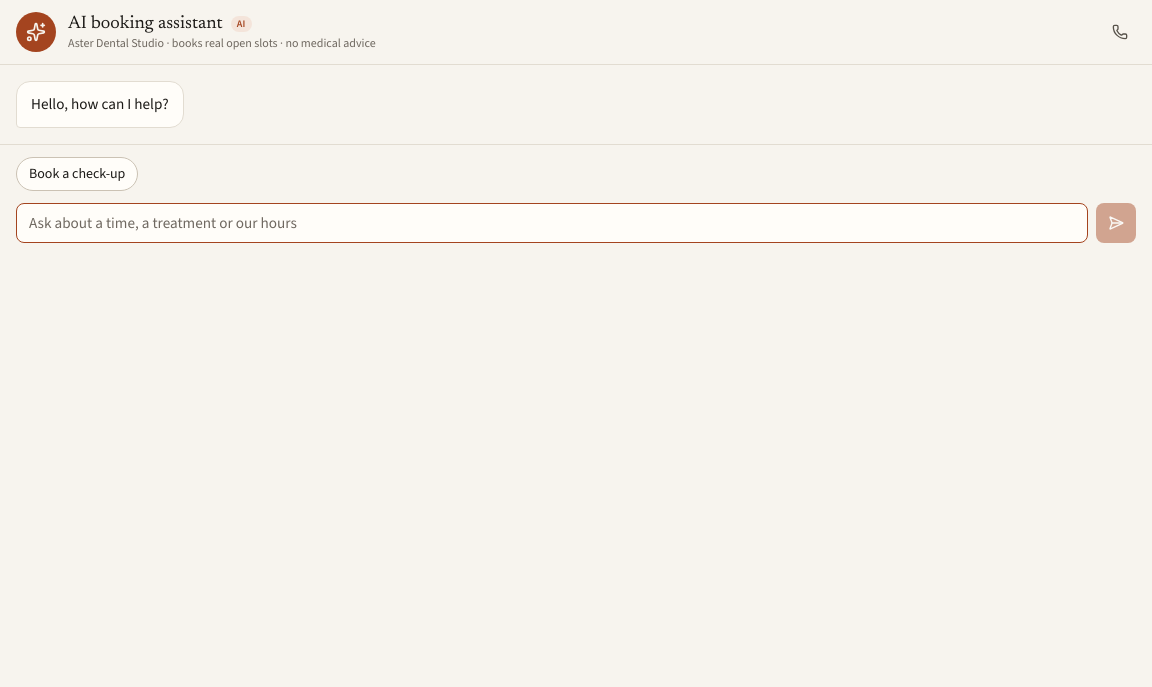
Test case: chat panel flow › creates a session, proposes a time and books only on Confirm
Expected: the text "Hello, how can I help?" is shown, [16,81,184,128]
Click the button "Book a check-up" at [77, 174], box [16,157,138,191]
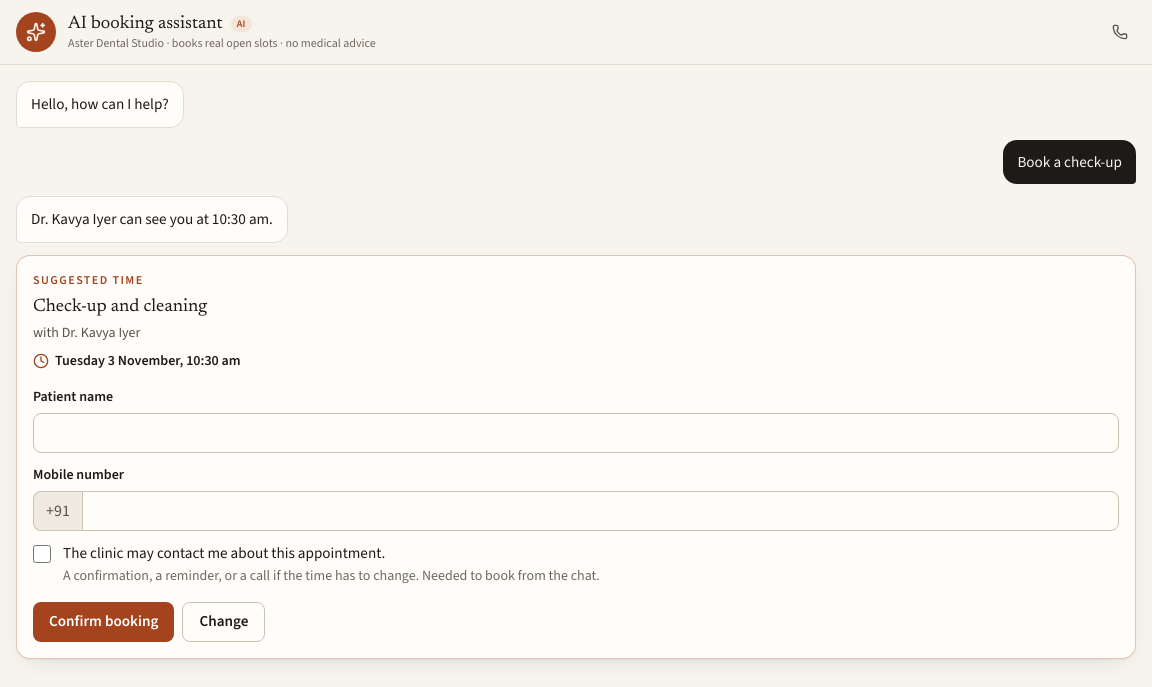
Type "Ananya Krishnan" into the field labelled "Patient name" at [576, 433], box [33,413,1119,453]
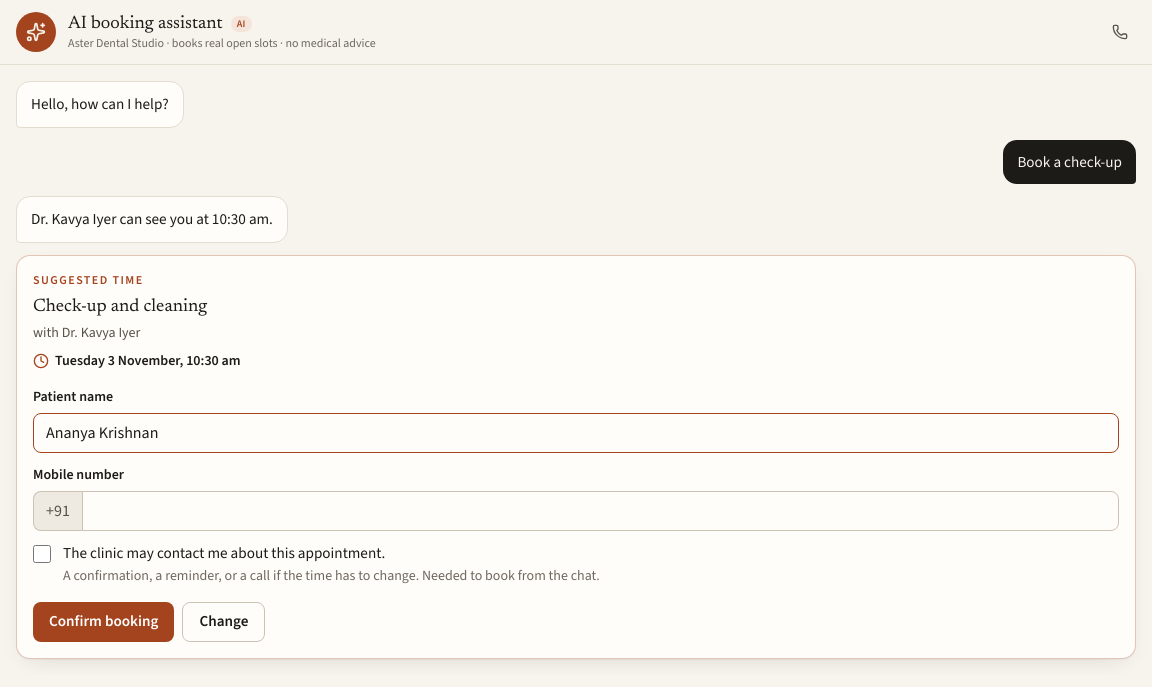
Type "9876543210" into the field labelled "Mobile number" at [600, 511], box [82,491,1119,531]
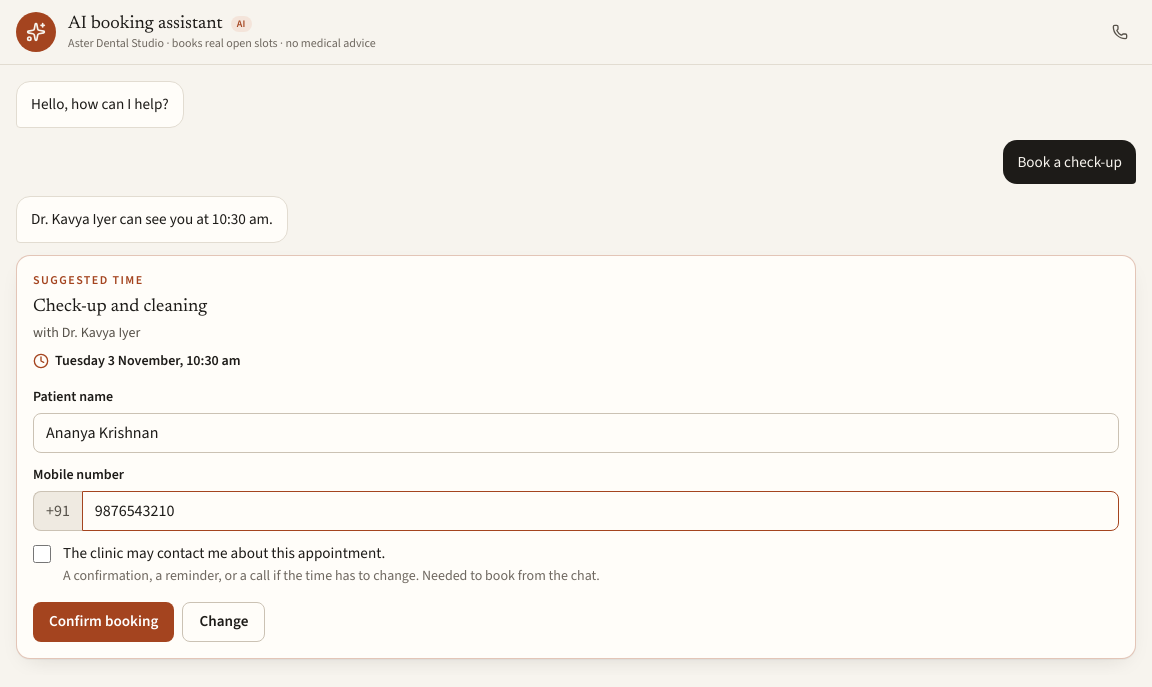
Click the checkbox at [42, 554], box [33,545,51,563]
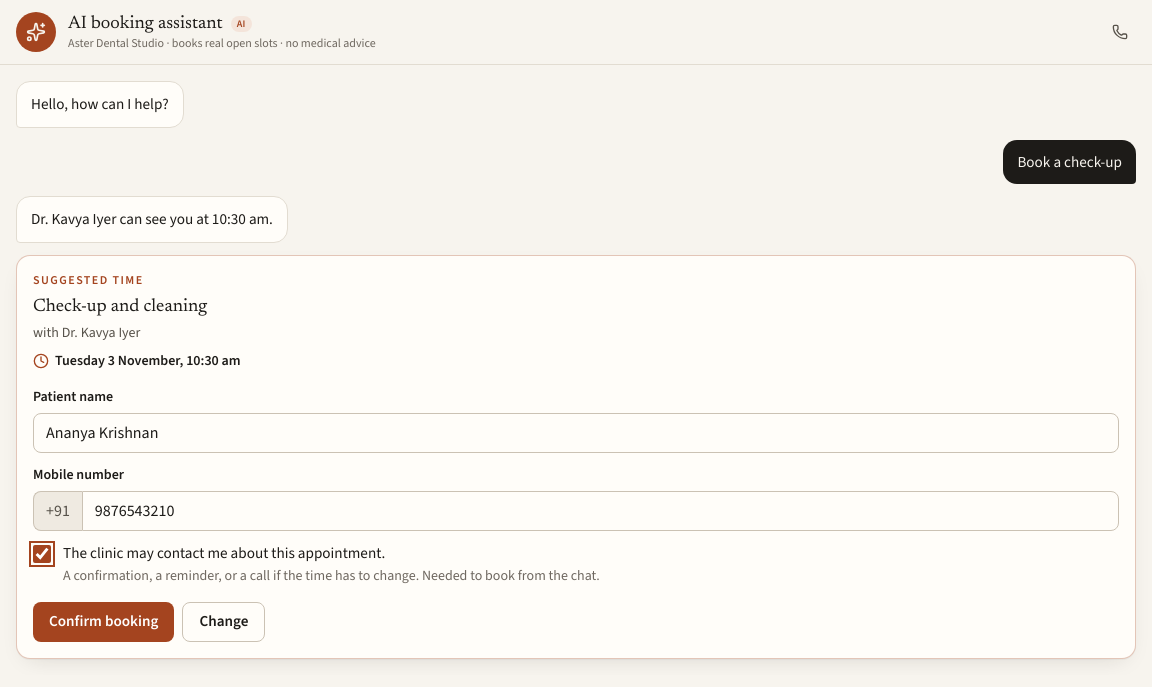
Click the button "Confirm booking" at [104, 622], box [33,602,174,642]
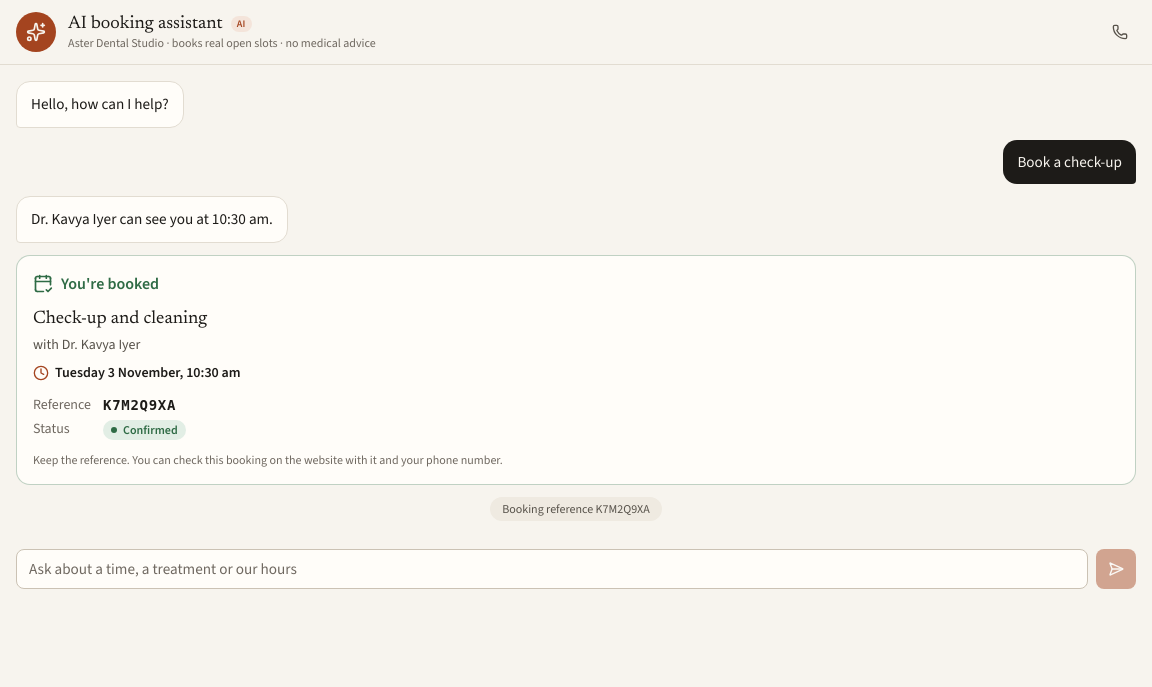
Expected: the text "You're booked" is shown, [61,272,159,296]
Expected: the text "K7M2Q9XA" is shown, [103,397,176,413]
